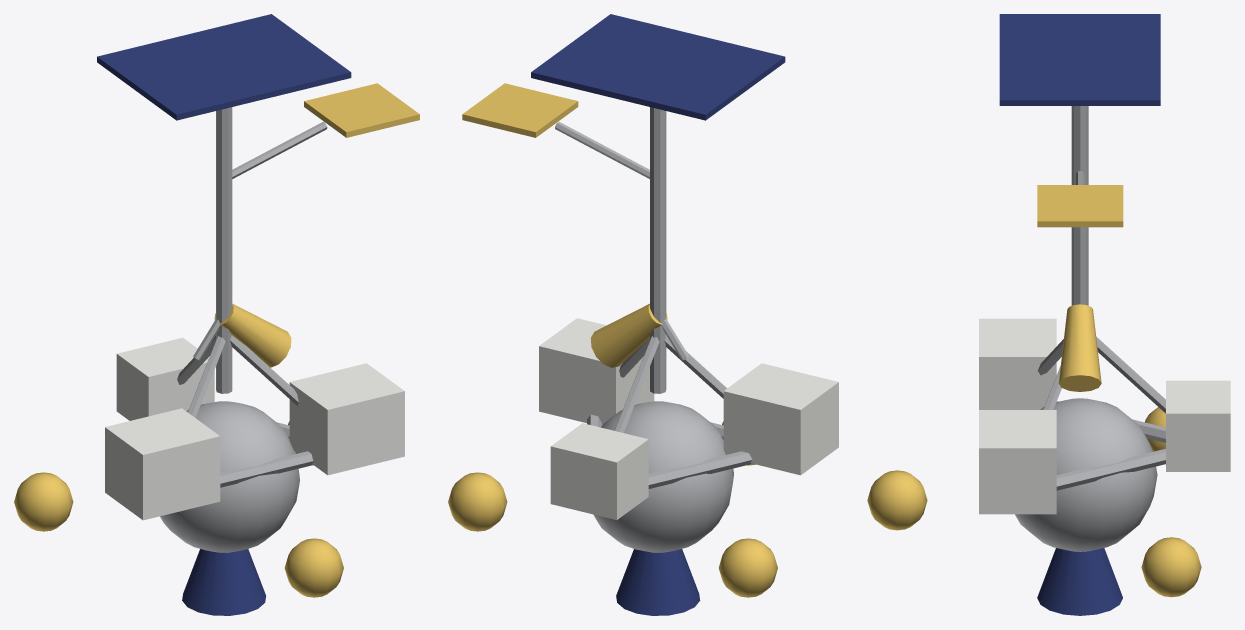
File: Surveyor.fbx
The picture shows the model from 3 angles, left to right: view 1: azimuth 30°, elevation 25°; view 2: azimuth 150°, elevation 25°; view 3: azimuth 270°, elevation 25°; orthographic projection.
Parts seen in each view (by area): view 1: Surveyor; view 2: Surveyor; view 3: Surveyor.
Boxes of the visible parts, x1,y1,x2,y2 form: Surveyor: (14,14,419,615); Surveyor: (448,14,838,615); Surveyor: (867,14,1230,615).
Bounding box in the file's own units: 1.83 × 2.77 × 1.69.
